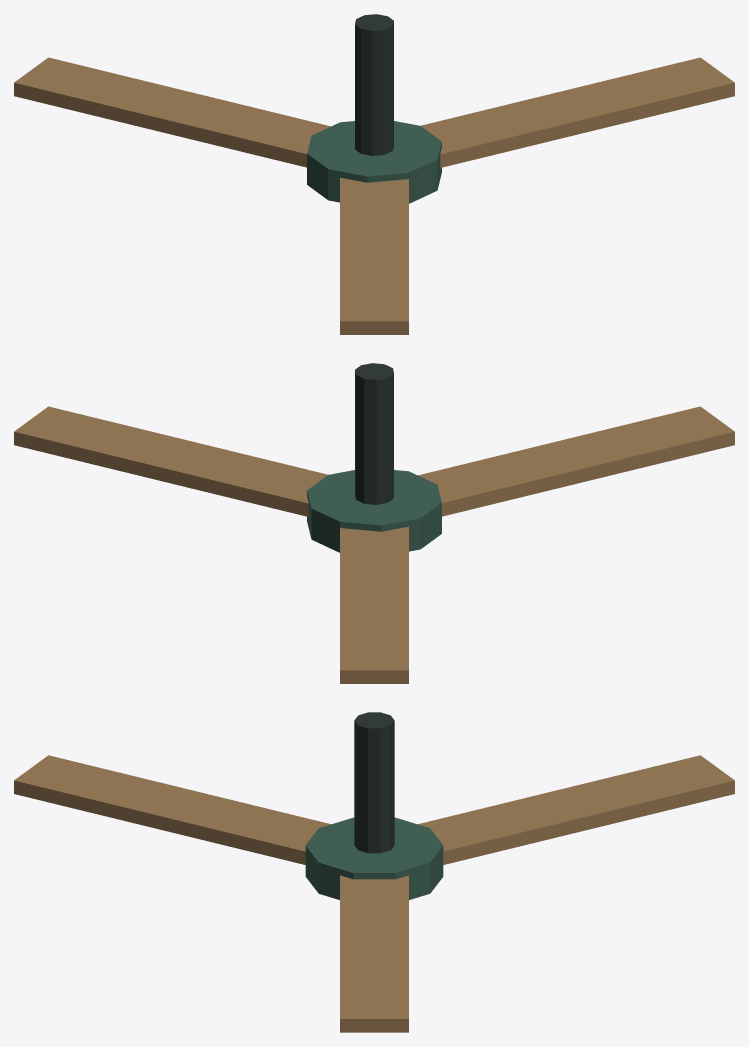
File: ceiling_fan.glb
The picture shows the model from 3 angles, top to bottom: view 1: azimuth 30°, elevation 25°; view 2: azimuth 150°, elevation 25°; view 3: azimuth 270°, elevation 25°; orthographic projection.
Parts seen in each view (by area): view 1: ceiling_fan; view 2: ceiling_fan; view 3: ceiling_fan.
Part boxes in pixels (x1,y1,x2,y2): ceiling_fan: [14, 14, 734, 334]; ceiling_fan: [14, 363, 734, 683]; ceiling_fan: [14, 712, 734, 1032].
Bounding box in the file's own units: 1.09 × 0.3 × 1.26.
